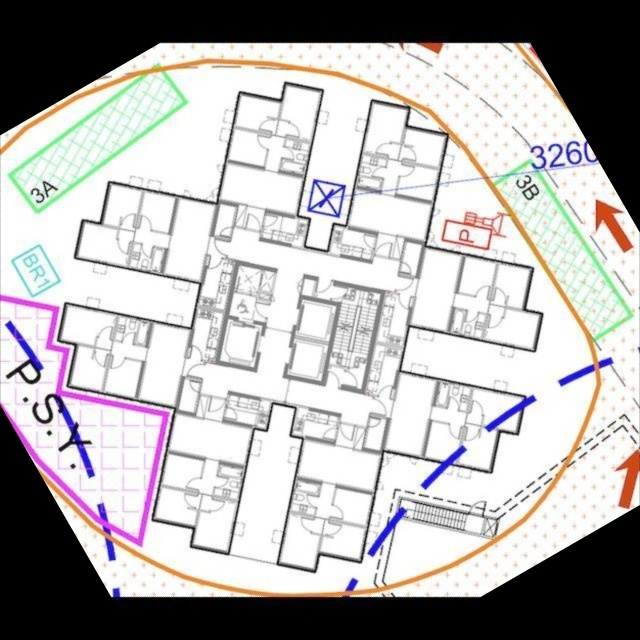tower_crane: (305, 177, 348, 221)
